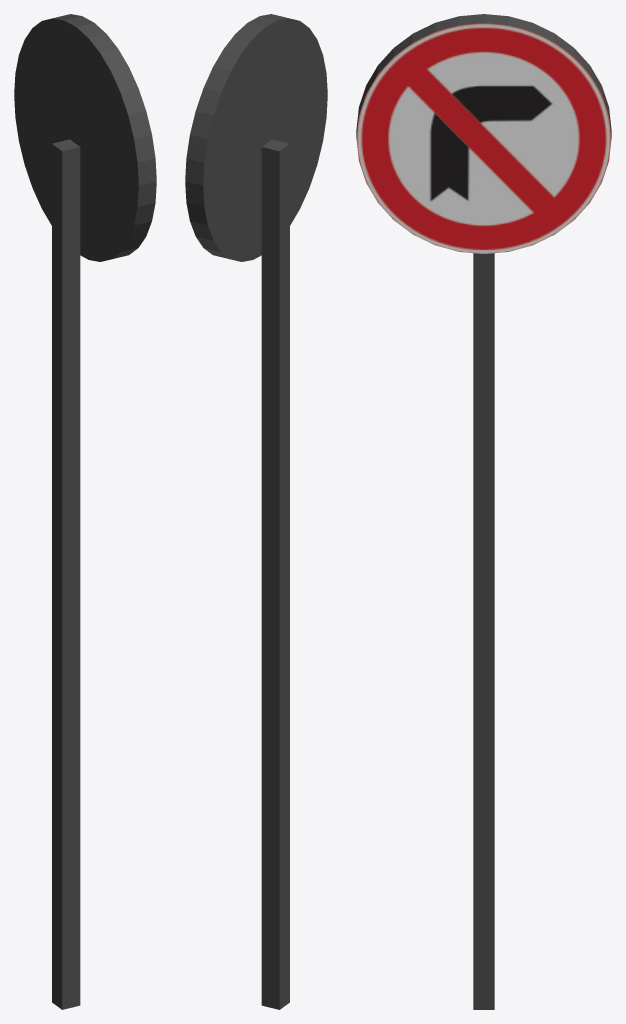
File: sag_donulmez_levha.dae
3 views of the same model, side by side, from view 1: azimuth 30°, elevation 25°; view 2: azimuth 150°, elevation 25°; view 3: azimuth 270°, elevation 25° (orthographic). The views are drawn at different scales.
Visible parts, largest first — view 1: Cube.004, Cube.001; view 2: Cube.004, Cube.001; view 3: Cube.001, Cube.004.
Part boxes in pixels (x1,y1,x2,y2): Cube.004: [52, 139, 80, 1009]; Cube.001: [14, 14, 156, 261]; Cube.004: [261, 139, 289, 1009]; Cube.001: [185, 14, 327, 261]; Cube.001: [356, 14, 611, 253]; Cube.004: [473, 253, 494, 1009].
Bounding box in the file's own units: 0.1039 × 0.6 × 2.59.
2 materials, 1 textured.
